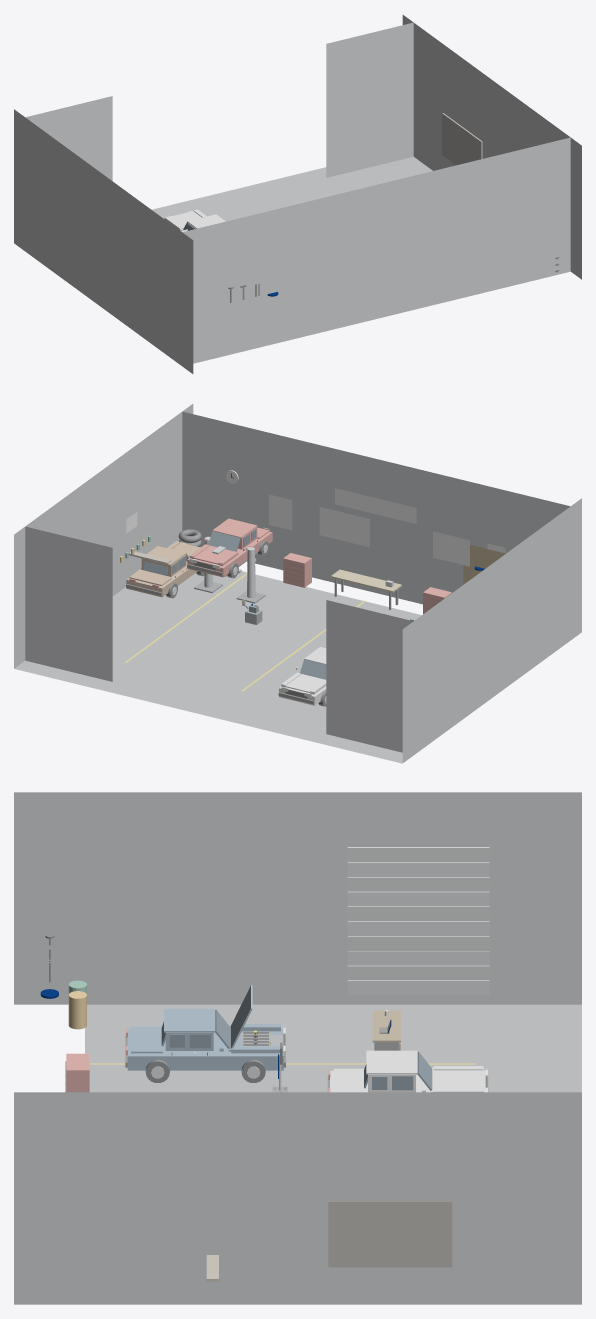
3 renders of one model, top to bottom at view 1: azimuth 30°, elevation 25°; view 2: azimuth 150°, elevation 25°; view 3: azimuth 270°, elevation 25°, orthographic. The views are drawn at different scales.
Size of the model in its own units: 21.6 by 6.61 by 16.
